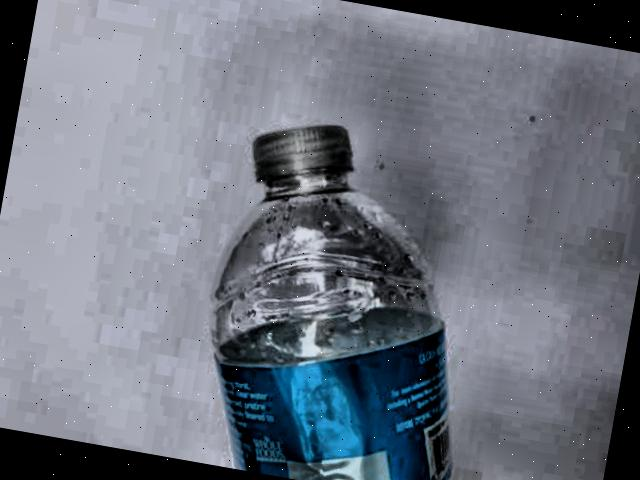Bottles: (156, 100, 508, 480)
